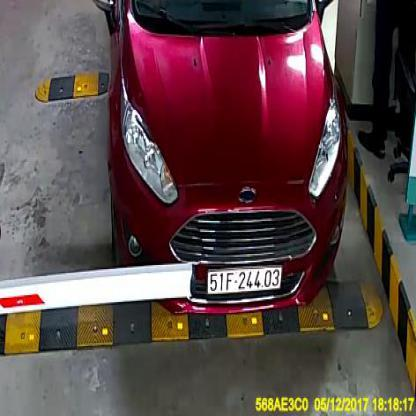biensoxe: (207, 268, 280, 294)
